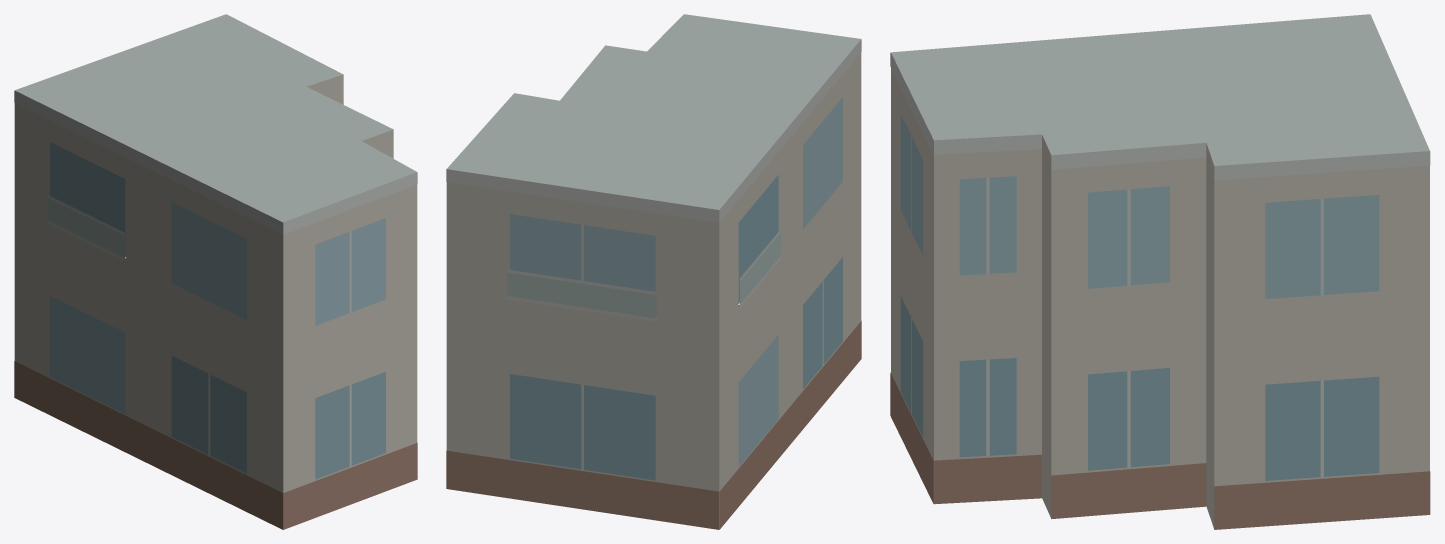
Rendered from survey-upis-32819692.glb.
The picture shows the model from 3 angles, left to right: view 1: azimuth 30°, elevation 25°; view 2: azimuth 150°, elevation 25°; view 3: azimuth 270°, elevation 25°; orthographic projection. The views are drawn at different scales.
Visible parts, largest first — view 1: survey-upis-32819692.tmp; view 2: survey-upis-32819692.tmp; view 3: survey-upis-32819692.tmp.
Part boxes in pixels (x1,y1,x2,y2): survey-upis-32819692.tmp: [14, 14, 417, 529]; survey-upis-32819692.tmp: [446, 14, 861, 529]; survey-upis-32819692.tmp: [890, 14, 1430, 529].
Bounding box in the file's own units: 5.48 × 6.1 × 8.21.
